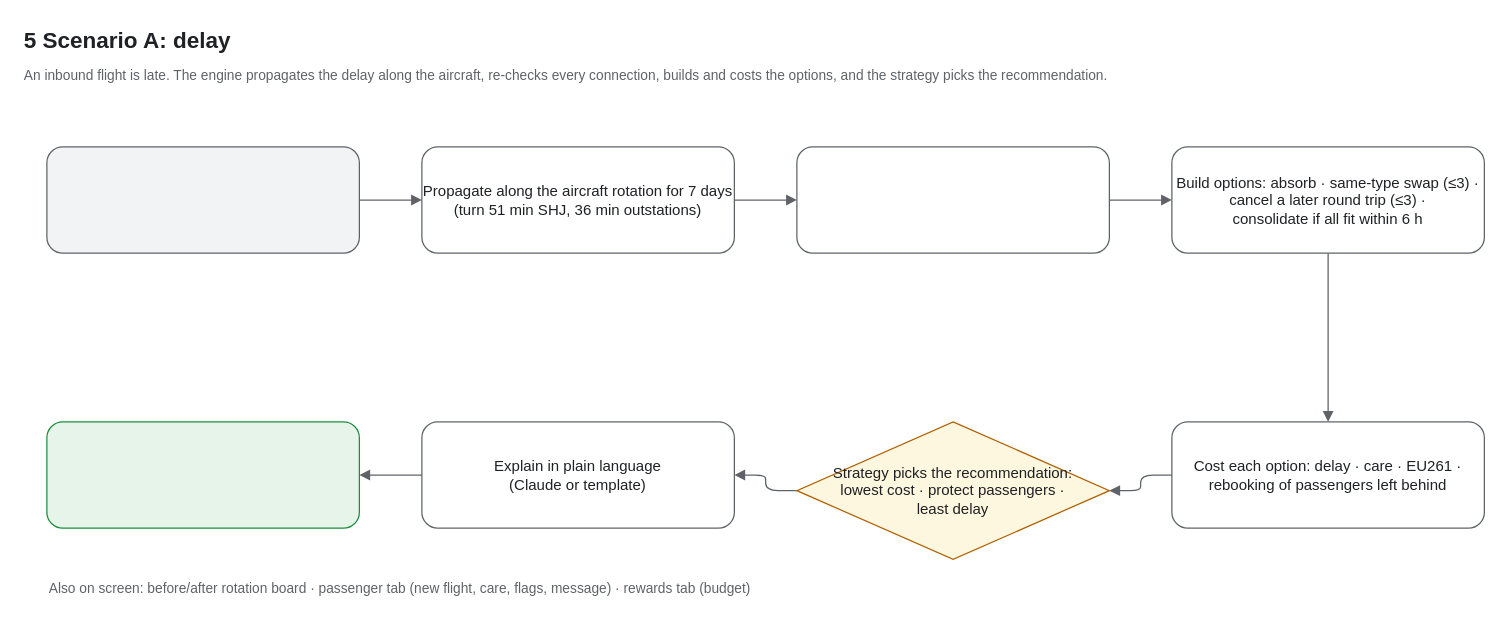
Some shapes in this 1506 by 624 pixel diagram are drawn without their labels. The shapes that lost their labels are listed below. From the top down, each one's centre as x and y in pixels, then its label:
pixel 202 199: OCC picks a flight and a delay (or opens it from the 7-day watchlist)
pixel 952 199: Re-check every connection (MCT; 15 min – 20 h)
pixel 202 474: Person approves, rejects, or overrides with a reason → audit trail
